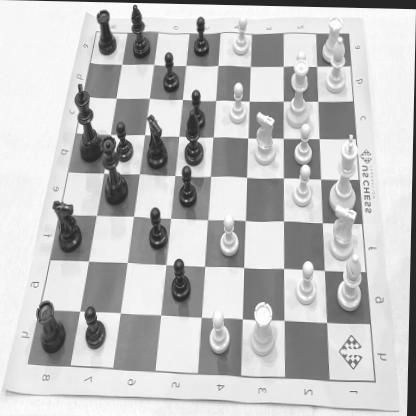black-bishop: (182, 110, 210, 168), (128, 2, 152, 60)
black-king: (72, 80, 104, 164)
black-knight: (52, 199, 83, 253), (145, 112, 170, 171)
black-pawn: (170, 255, 194, 304), (85, 303, 109, 350), (149, 204, 170, 252), (186, 88, 208, 132), (178, 163, 198, 208), (192, 14, 211, 57), (162, 50, 181, 93), (116, 119, 134, 164)
black-queen: (100, 134, 128, 204)
black-rook: (36, 296, 70, 356), (94, 6, 118, 58)
white-bishop: (336, 252, 366, 310), (324, 35, 349, 93)
white-king: (328, 132, 360, 214)
white-knight: (328, 202, 362, 258), (252, 108, 278, 166)
white-pawn: (210, 307, 234, 355), (296, 258, 319, 306), (292, 163, 316, 206), (220, 212, 242, 258), (292, 122, 314, 166), (232, 14, 252, 57), (229, 80, 249, 123), (290, 48, 309, 88)
white-queen: (284, 58, 315, 128)
white-rook: (250, 298, 280, 357), (322, 13, 343, 65)
